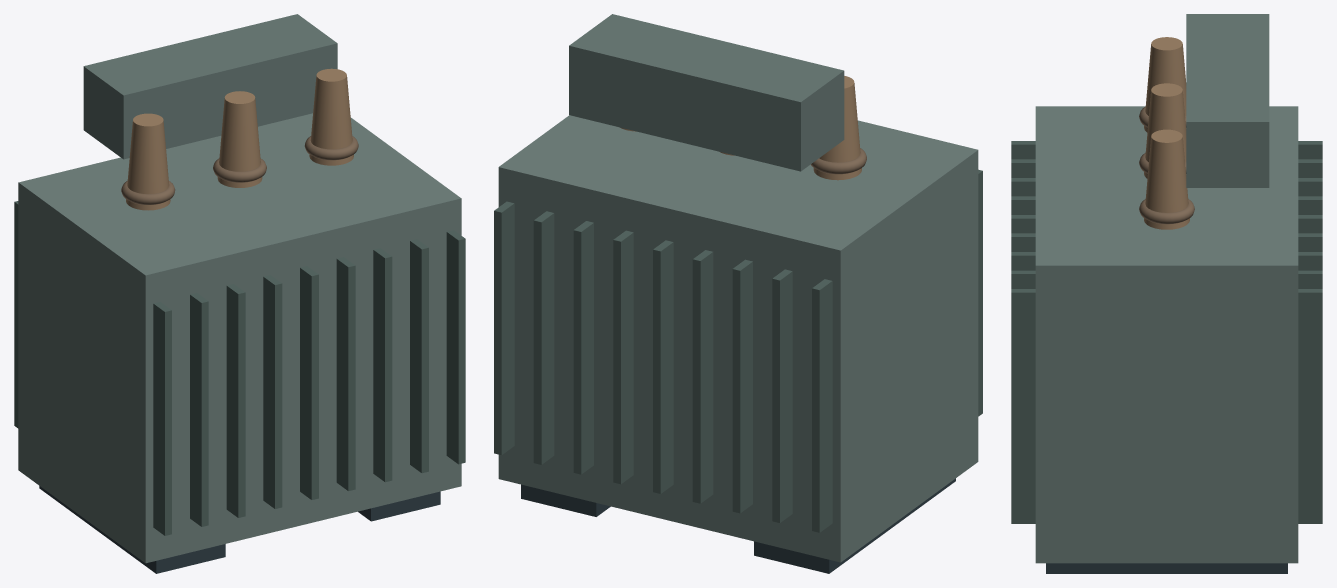
Rendered from oil-filled-transformer.glb.
3 views of the same model, side by side, from view 1: azimuth 30°, elevation 25°; view 2: azimuth 150°, elevation 25°; view 3: azimuth 270°, elevation 25° (orthographic). The views are drawn at different scales.
Visible parts, largest first — view 1: Oil tank, Conservator, Porcelain bushing (×3), Cooling fin 1, Cooling fin 9, Cooling fin 6, Cooling fin 7, Cooling fin 4, Cooling fin 3, Cooling fin 8, Cooling fin 2, Cooling fin 5 (+2 smaller); view 2: Oil tank, Conservator, Cooling fin 1, Cooling fin 8, Cooling fin 4, Cooling fin 2, Cooling fin 3, Cooling fin 5, Cooling fin 6, Cooling fin 9, Cooling fin 7, Mounting rail (×2) (+2 smaller); view 3: Oil tank, Conservator, Cooling fin 9, Porcelain bushing (×3), Mounting rail, Cooling fin 1, Cooling fin 2, Cooling fin 3, Cooling fin 4, Cooling fin 5, Cooling fin 6, Cooling fin 7 (+2 smaller).
Part boxes in pixels (x1,y1,x2,y2): Oil tank: (18,113,461,563); Conservator: (83,14,337,159); Porcelain bushing (×3): (126,68,353,210); Cooling fin 1: (14,201,171,535); Cooling fin 9: (446,230,465,464); Cooling fin 6: (336,257,355,491); Cooling fin 7: (373,248,392,482); Cooling fin 4: (263,275,282,508); Cooling fin 3: (226,284,245,517); Cooling fin 8: (410,239,428,473); Cooling fin 2: (190,293,208,526); Cooling fin 5: (300,266,318,499); Oil tank: (498,115,978,562); Conservator: (569,14,844,171); Cooling fin 1: (812,169,982,532); Cooling fin 8: (533,211,554,464); Cooling fin 4: (692,250,713,503); Cooling fin 2: (772,269,792,522); Cooling fin 3: (732,259,752,513); Cooling fin 5: (653,240,673,493); Cooling fin 6: (613,230,633,484); Cooling fin 9: (494,201,514,455); Cooling fin 7: (573,221,593,474); Mounting rail (×2): (521,478,955,573); Oil tank: (1035,106,1298,563); Conservator: (1186,14,1269,187); Cooling fin 9: (1011,289,1322,523); Porcelain bushing (×3): (1144,37,1189,229); Mounting rail: (1046,563,1287,573); Cooling fin 1: (1011,141,1322,159); Cooling fin 2: (1011,159,1322,177); Cooling fin 3: (1011,178,1322,196); Cooling fin 4: (1011,196,1322,214); Cooling fin 5: (1011,215,1322,233); Cooling fin 6: (1011,233,1322,251); Cooling fin 7: (1011,252,1322,270).
Bounding box in the file's own units: 1.55 × 1.97 × 1.28.
